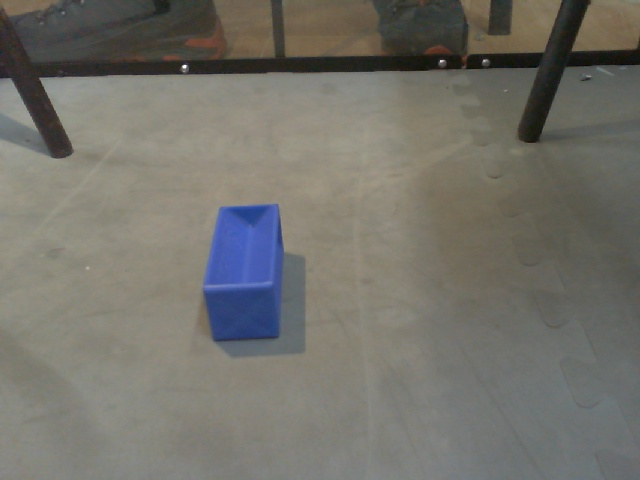BlueSample: (201, 200, 287, 349)
